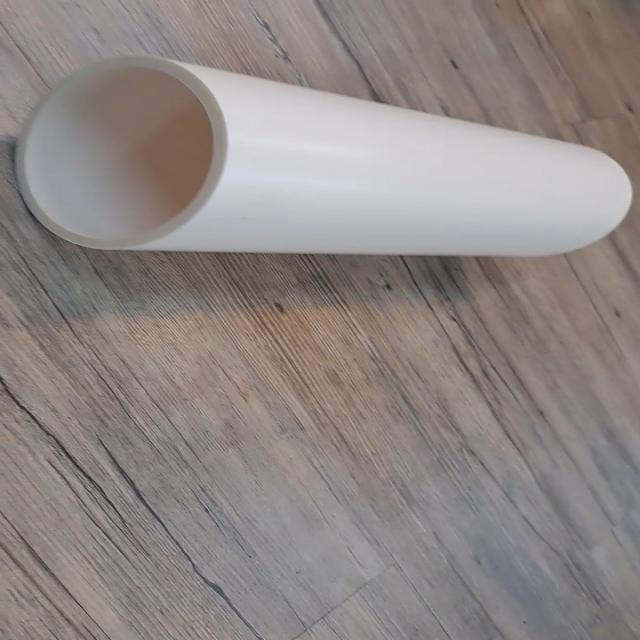CORAL: (0, 47, 640, 280)
